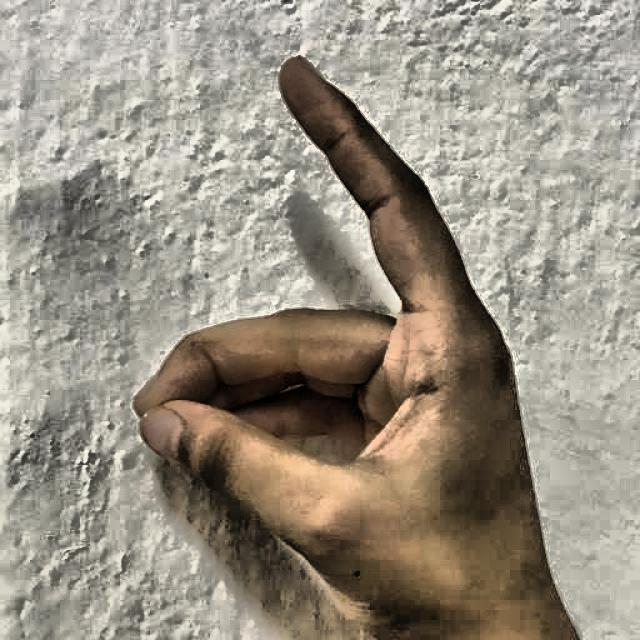Dha: (108, 42, 570, 640)
